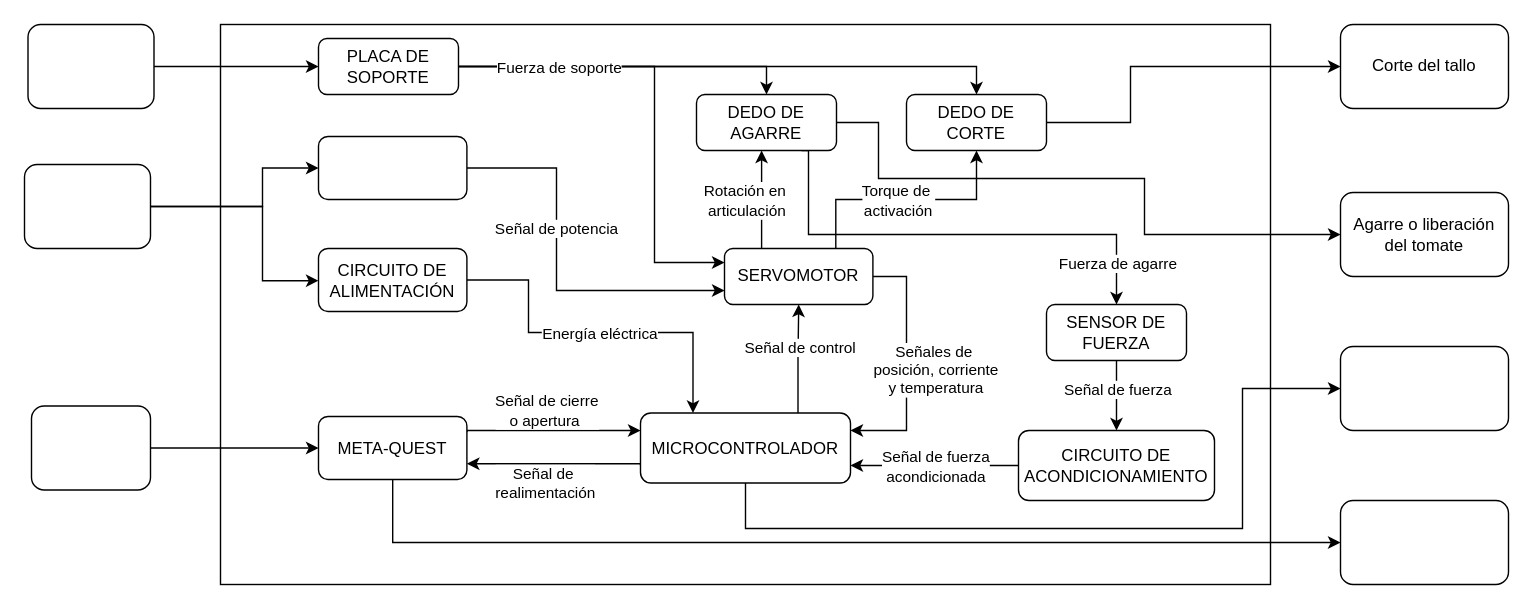
This 1533x609 diagram has some shape labels left out. The shapes that lost their labels are listed below. From the top down, each one's box as (x1, y1, x2, y2) in pixels, then its label:
(27, 23, 154, 108): Pose del antebrazo
(317, 135, 467, 200): CIRCUITO DE POTENCIA
(23, 163, 150, 248): Alimentación eléctrica DC
(1339, 345, 1508, 430): Velocidad y fuerza de agarre
(30, 405, 150, 490): Input del usuario
(1339, 499, 1508, 584): Realimentación háptica de fuerza
